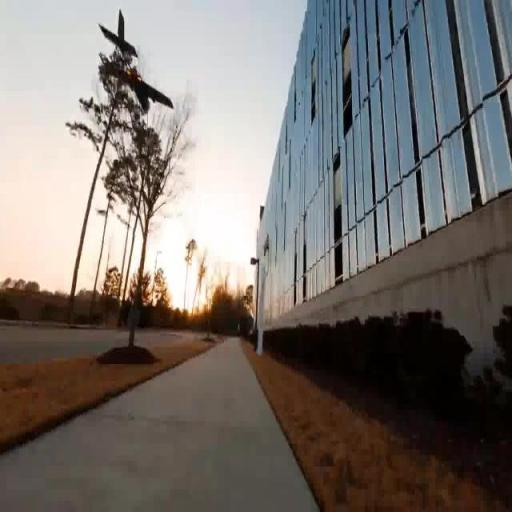uav: (96, 10, 178, 121)
